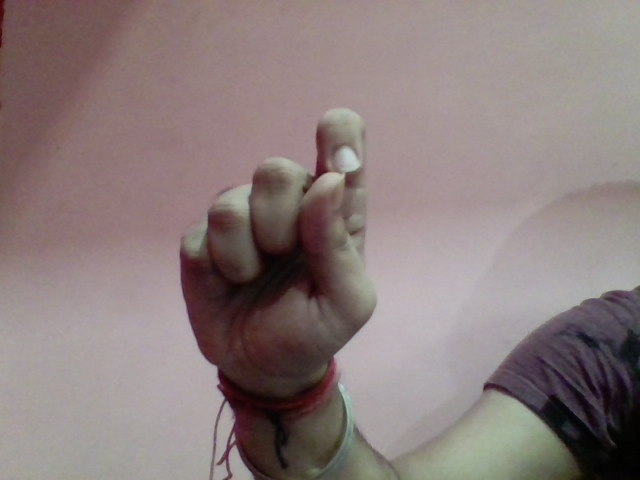t: (164, 98, 395, 398)
